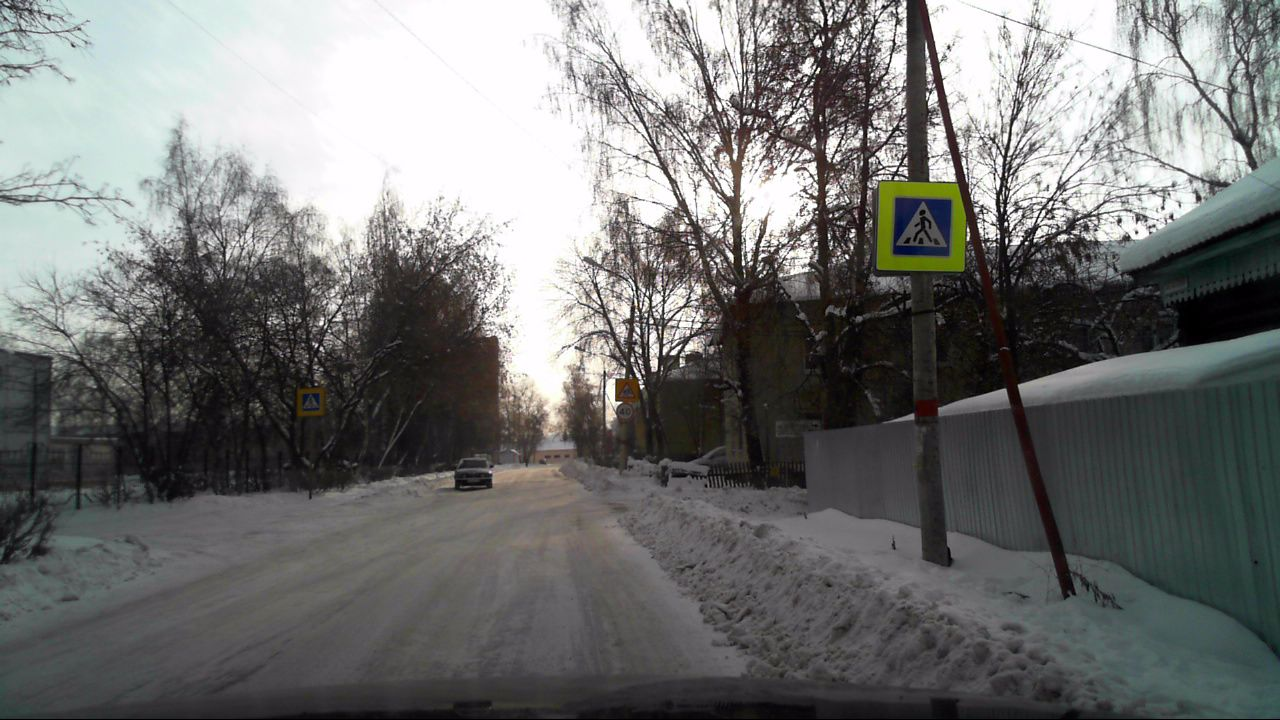speed_warning_40: (616, 403, 633, 419)
